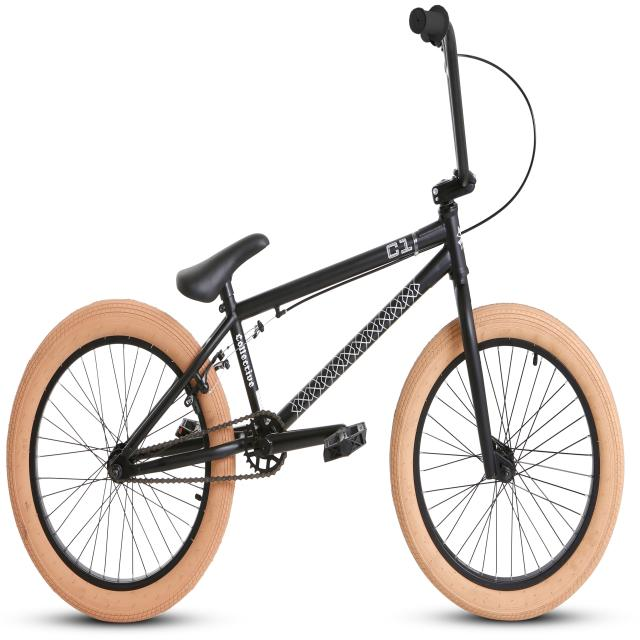bmx-bike: (5, 4, 624, 626)
